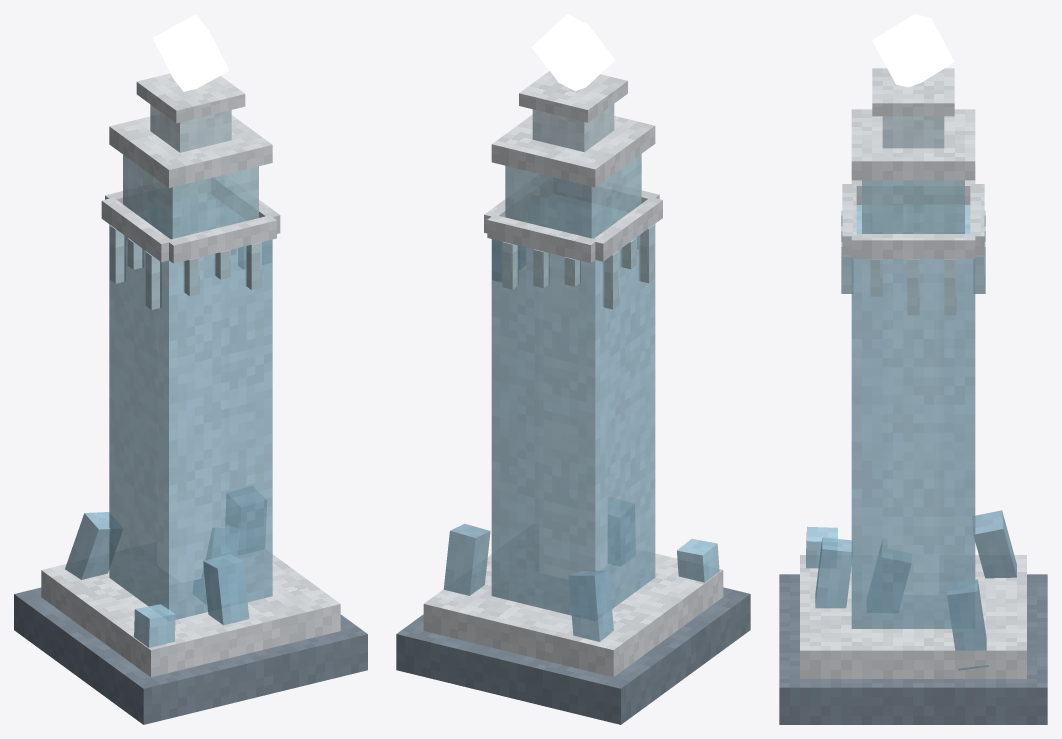
The model's file is obelisk_toundra.glb.
3 renders of one model, left to right at view 1: azimuth 30°, elevation 25°; view 2: azimuth 150°, elevation 25°; view 3: azimuth 270°, elevation 25°, orthographic. The views are drawn at different scales.
Visible parts, largest first — view 1: Obelisk; view 2: Obelisk; view 3: Obelisk.
Boxes of the visible parts, bbox=[...] form: Obelisk: bbox=[14, 14, 367, 724]; Obelisk: bbox=[396, 14, 750, 724]; Obelisk: bbox=[779, 14, 1047, 724].
Size of the model in its own units: 1.3 by 3.51 by 1.3.
Materials: 13 (13 with a texture image).
